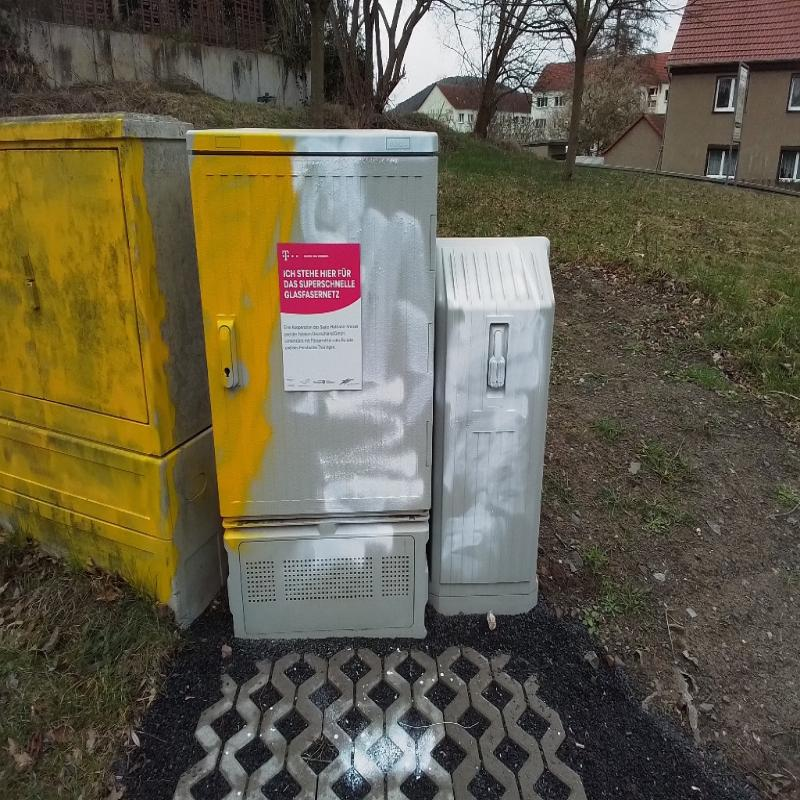NT-Gehause: (189, 130, 433, 635)
Steaker: (280, 242, 364, 393)
